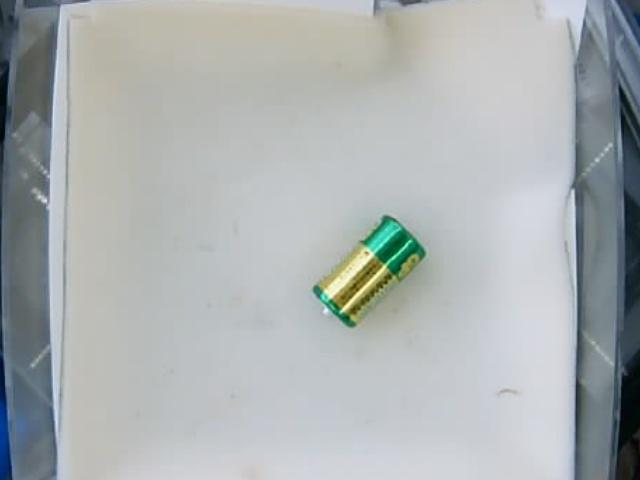Battery: (311, 213, 424, 324)
